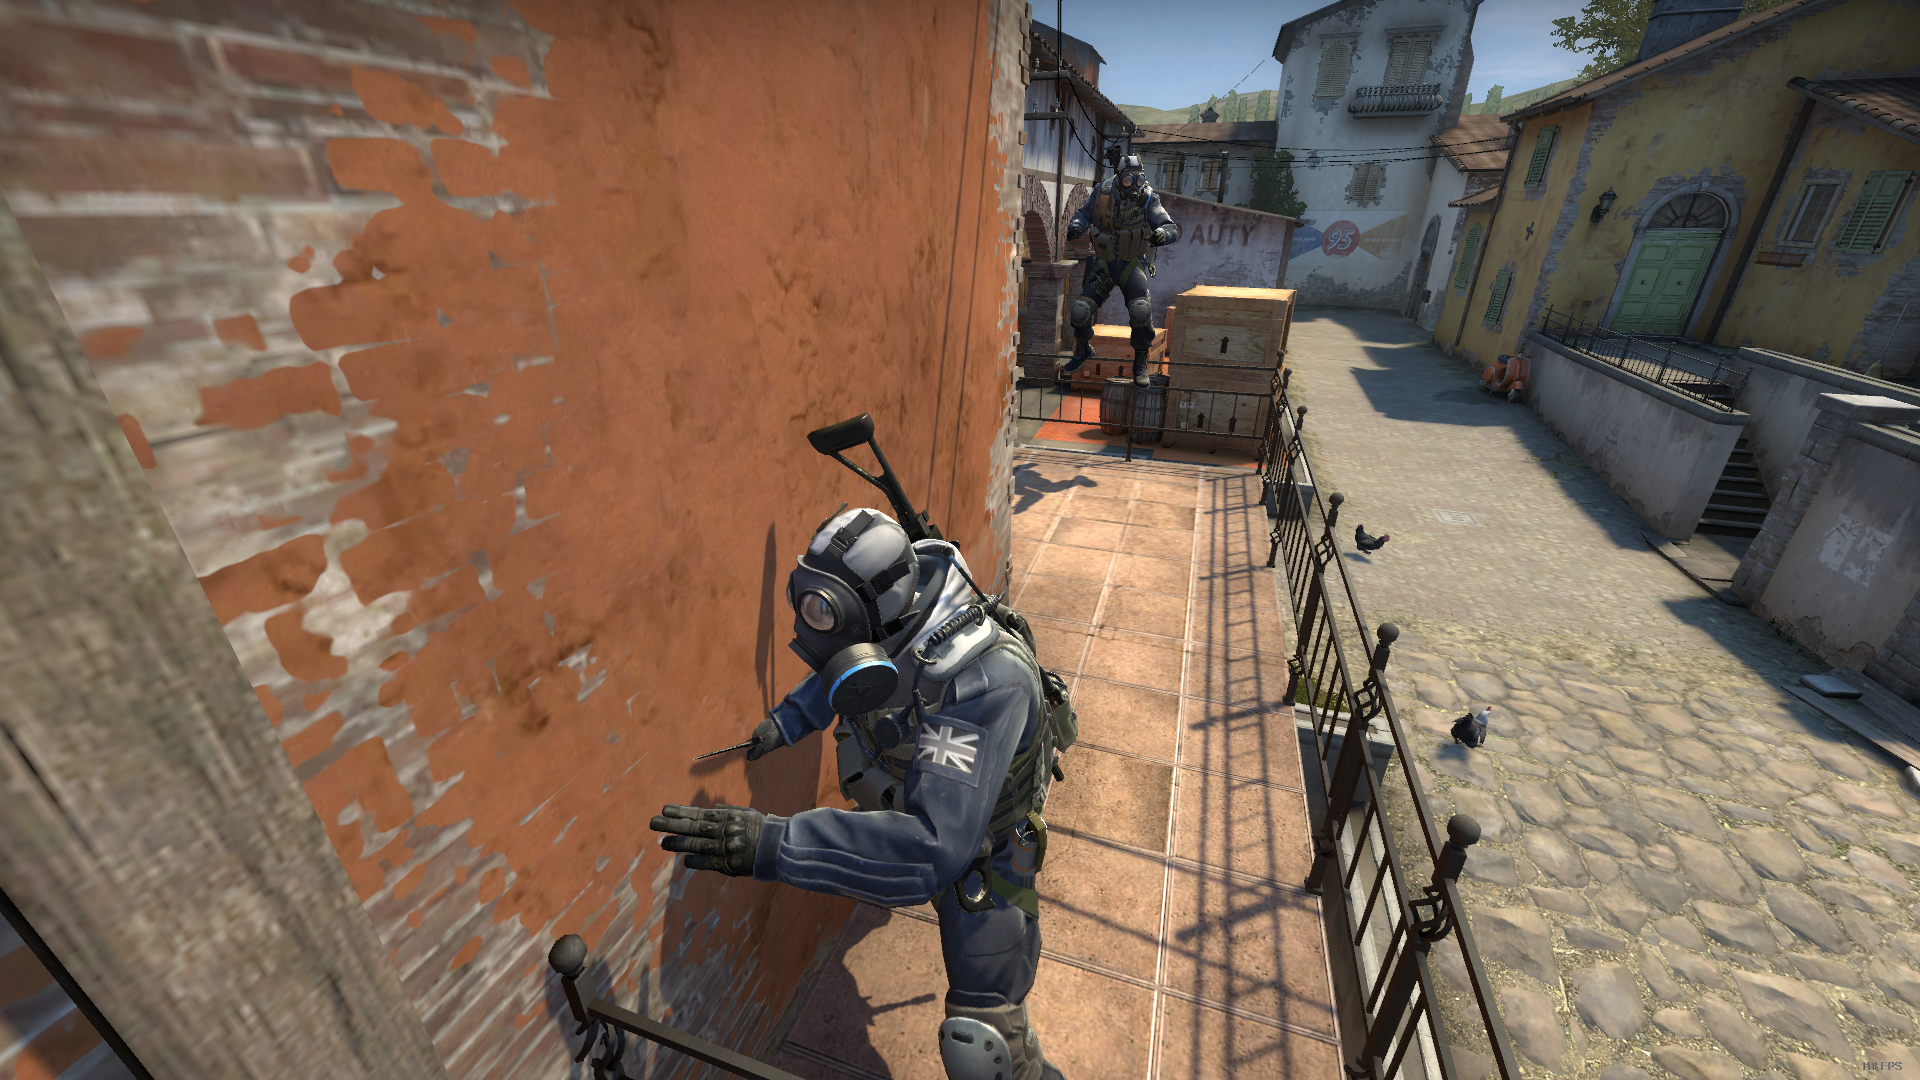ct: (662, 495, 1120, 1080), (1058, 148, 1182, 385)
